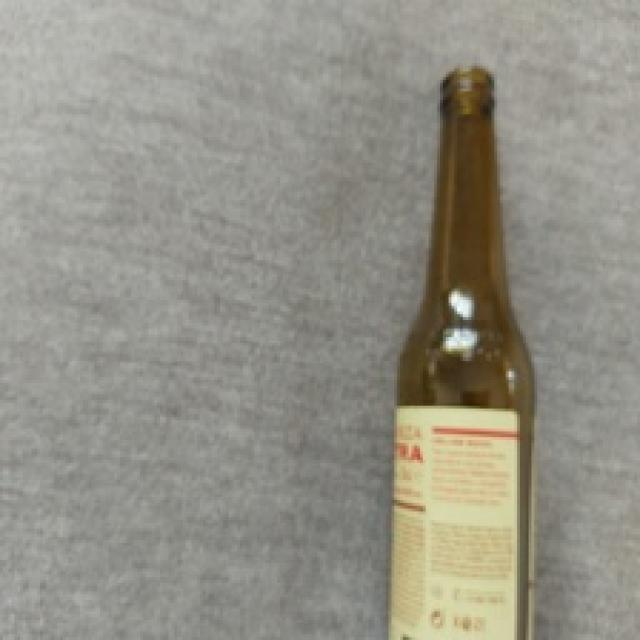Glass: (395, 58, 536, 640)
